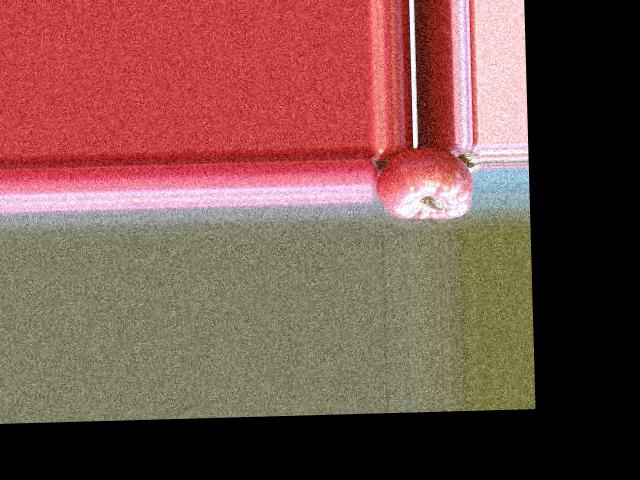tomato: (373, 145, 473, 220)
